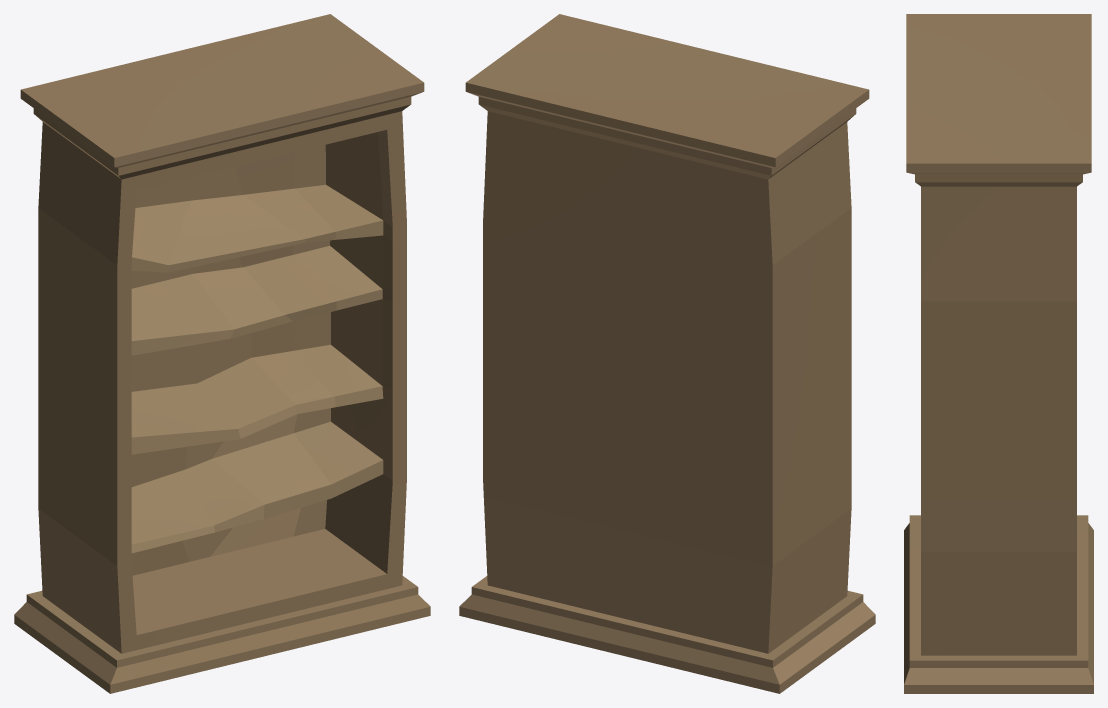
File: shelf_1_B.glb
The picture shows the model from 3 angles, left to right: view 1: azimuth 30°, elevation 25°; view 2: azimuth 150°, elevation 25°; view 3: azimuth 270°, elevation 25°; orthographic projection.
Parts seen in each view (by area): view 1: shelf_1_B; view 2: shelf_1_B; view 3: shelf_1_B.
Part boxes in pixels (x1,y1,x2,y2): shelf_1_B: (14, 14, 430, 693); shelf_1_B: (459, 14, 875, 693); shelf_1_B: (904, 14, 1093, 693).
Size of the model in its own units: 1.01 by 1.6 by 0.5232.
Materials: 1 (1 with a texture image).
